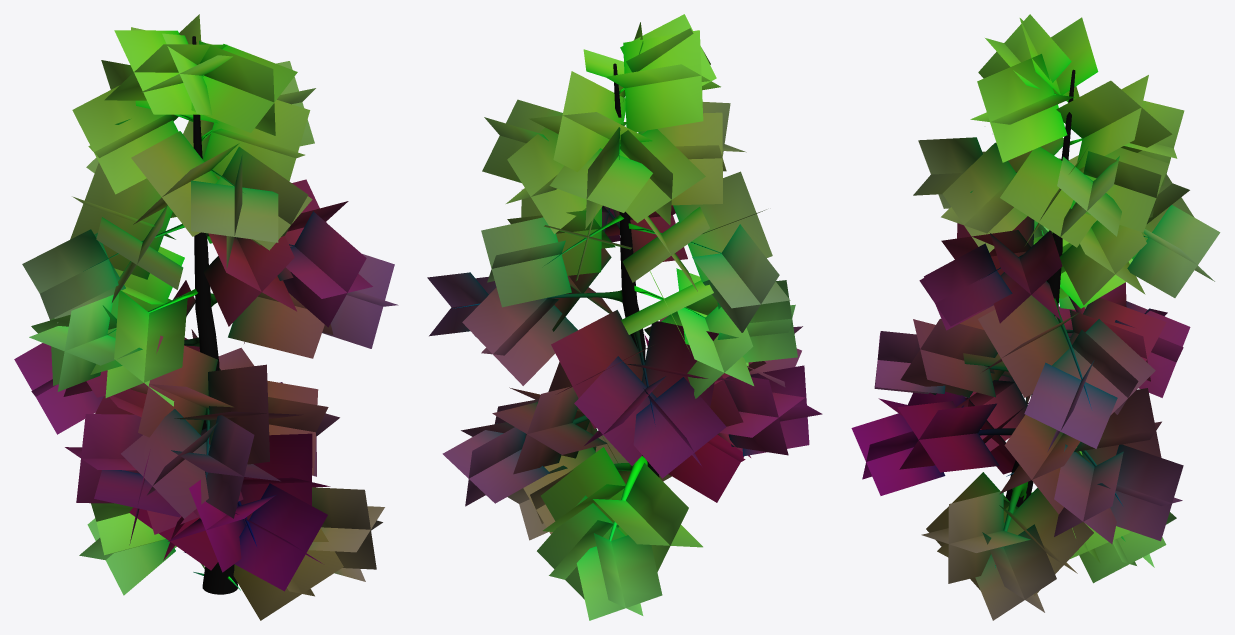
Rendered from URP_P7_Tree_3_LOD_1.fbx.
3 renders of one model, left to right at view 1: azimuth 30°, elevation 25°; view 2: azimuth 150°, elevation 25°; view 3: azimuth 270°, elevation 25°, orthographic. The views are drawn at different scales.
Visible parts, largest first — view 1: Tree_3_LOD_1; view 2: Tree_3_LOD_1; view 3: Tree_3_LOD_1.
Part boxes in pixels (<box>): Tree_3_LOD_1: <box>14,14,398,620</box>; Tree_3_LOD_1: <box>427,14,822,620</box>; Tree_3_LOD_1: <box>851,14,1220,620</box>.
Bounding box in the file's own units: 289 × 438 × 271.
